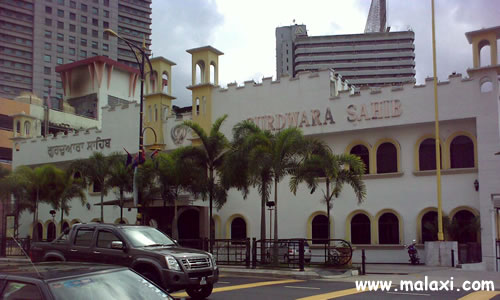Gurdwara: (20, 37, 433, 241)
